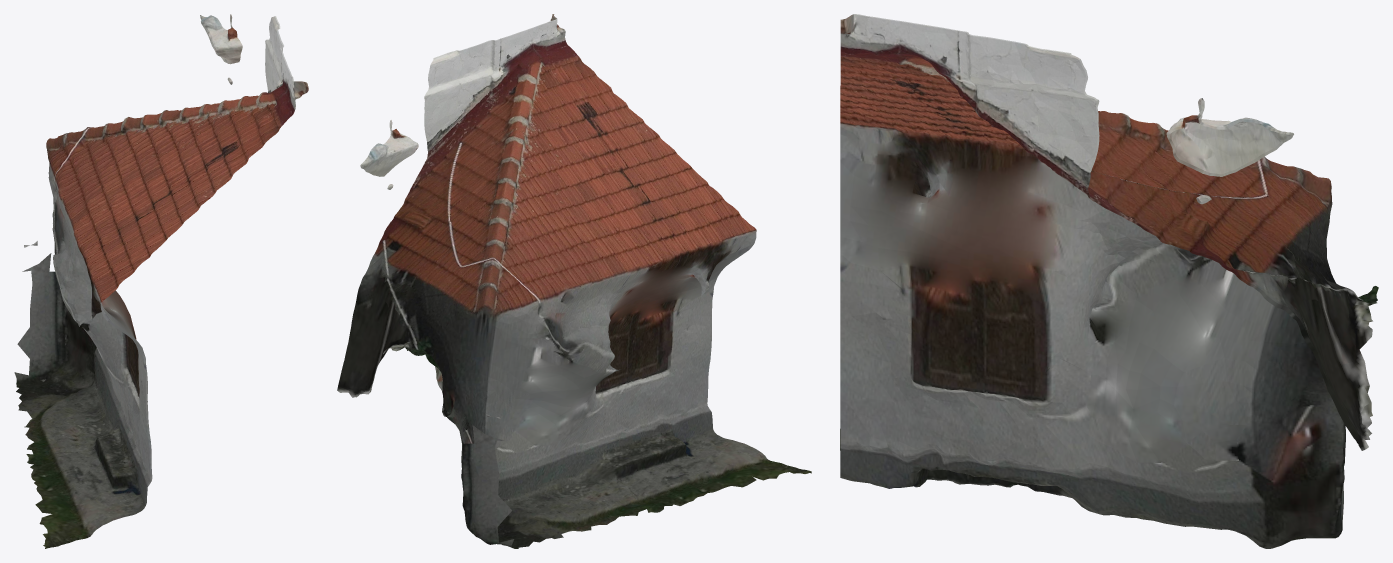
3 views of the same model, side by side, from view 1: azimuth 30°, elevation 25°; view 2: azimuth 150°, elevation 25°; view 3: azimuth 270°, elevation 25° (orthographic). The views are drawn at different scales.
Visible parts, largest first — view 1: node_63; view 2: node_63; view 3: node_63.
Part boxes in pixels (x1,y1,x2,y2): node_63: (14, 14, 308, 548); node_63: (337, 14, 811, 548); node_63: (840, 14, 1378, 548).
Bounding box in the file's own units: 5.32 × 6.66 × 5.38.
Materials: 1 (1 with a texture image).
